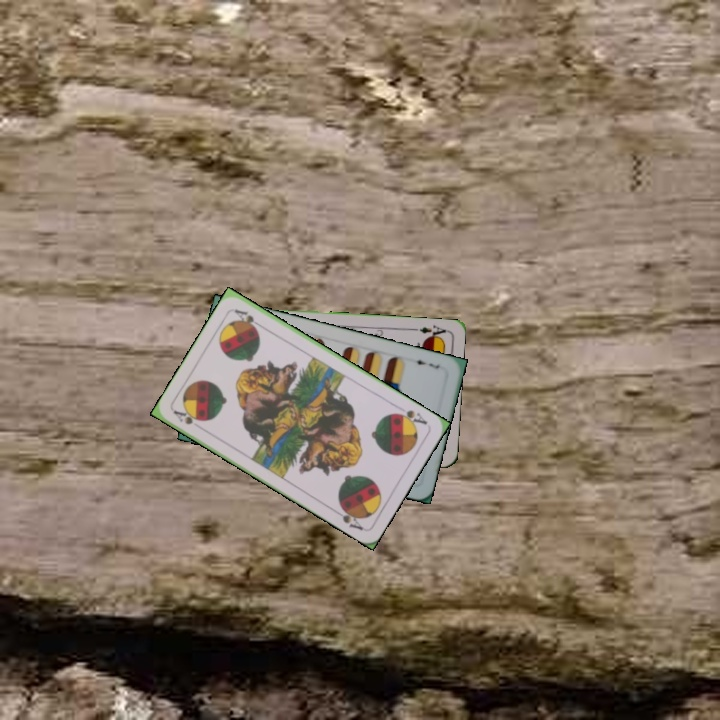E7: (408, 355, 442, 371)
EA: (409, 321, 449, 341)
SA: (390, 406, 430, 429), (169, 406, 205, 427)
